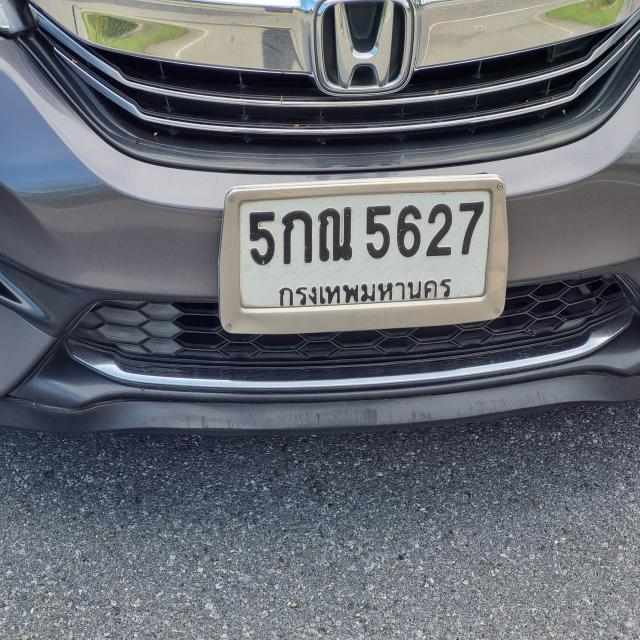license_plate: (218, 175, 510, 334)
